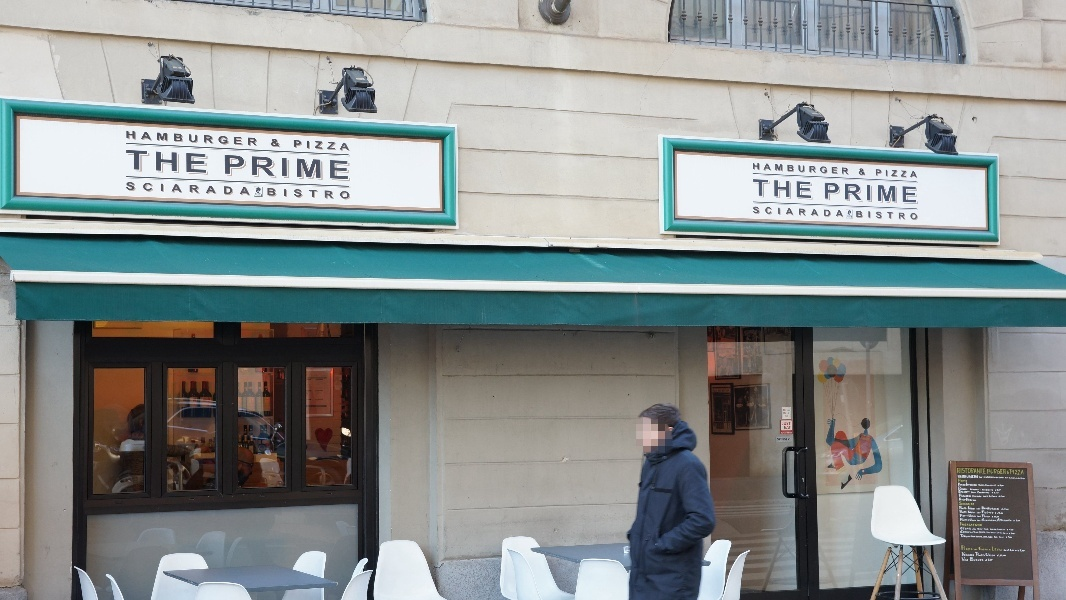text: (129, 149, 144, 175), (145, 149, 160, 175), (161, 149, 176, 175), (177, 149, 192, 175), (193, 149, 208, 175), (225, 155, 240, 181), (241, 155, 256, 181), (257, 155, 272, 181), (273, 155, 288, 181), (289, 155, 304, 181), (305, 155, 320, 181), (321, 155, 336, 181), (337, 155, 350, 181), (753, 179, 768, 200), (769, 179, 784, 200), (785, 179, 800, 200), (833, 183, 848, 204), (849, 183, 864, 204), (865, 183, 880, 204), (881, 183, 896, 204), (897, 183, 912, 204), (129, 130, 144, 147), (145, 130, 160, 147), (161, 130, 176, 147), (177, 130, 192, 147), (193, 130, 208, 147), (209, 130, 224, 147), (225, 130, 240, 147), (241, 130, 256, 147), (129, 181, 144, 197), (145, 181, 160, 197), (161, 181, 176, 197), (177, 181, 192, 197), (193, 181, 208, 197), (209, 181, 224, 197), (225, 181, 240, 197), (801, 179, 812, 200), (273, 187, 288, 200), (289, 187, 304, 200), (305, 187, 320, 200), (321, 187, 336, 200), (753, 163, 768, 176), (769, 163, 784, 176), (785, 163, 800, 176), (801, 163, 816, 176), (817, 163, 832, 176), (833, 163, 848, 176), (241, 181, 253, 197), (337, 187, 350, 200), (305, 140, 320, 151), (321, 140, 336, 151), (753, 207, 768, 218), (769, 207, 784, 218), (785, 207, 800, 218), (801, 207, 816, 218), (817, 207, 832, 218), (337, 140, 351, 151), (881, 169, 896, 179), (897, 169, 912, 179), (825, 183, 832, 204), (865, 211, 880, 220), (881, 211, 896, 220), (897, 211, 912, 220), (293, 140, 304, 151), (833, 207, 844, 218), (993, 468, 1007, 476), (961, 468, 976, 475), (1009, 469, 1024, 476), (961, 475, 976, 481), (977, 475, 992, 481), (993, 475, 1008, 481), (1009, 475, 1024, 481), (961, 505, 976, 511), (977, 505, 992, 511), (993, 505, 1008, 511), (961, 526, 976, 532), (977, 526, 992, 532), (993, 526, 1008, 532), (961, 545, 976, 551), (977, 552, 992, 558), (913, 183, 917, 204), (273, 138, 281, 148), (961, 497, 977, 502), (961, 483, 976, 488), (977, 483, 992, 488), (961, 510, 976, 515), (977, 510, 992, 515), (961, 514, 976, 519), (977, 514, 992, 519), (961, 522, 976, 527), (961, 530, 976, 535), (977, 530, 992, 535), (993, 530, 1008, 535), (961, 534, 976, 539), (977, 534, 992, 539), (993, 534, 1008, 539), (961, 552, 976, 557), (961, 557, 976, 562), (856, 211, 864, 220), (977, 468, 987, 475), (978, 547, 992, 552), (993, 546, 1004, 552), (267, 187, 272, 200), (913, 169, 919, 179), (993, 483, 1005, 488), (961, 490, 976, 494), (961, 494, 976, 498), (977, 494, 992, 498), (961, 518, 976, 522), (977, 518, 992, 522), (993, 518, 1008, 522), (1009, 549, 1024, 553), (961, 502, 975, 506), (993, 510, 1004, 515), (126, 149, 128, 175), (977, 490, 990, 494), (993, 494, 1006, 498), (1009, 518, 1022, 522), (257, 130, 260, 147), (859, 168, 864, 177), (913, 211, 918, 220), (997, 554, 1008, 558), (876, 169, 880, 179), (987, 468, 992, 476), (977, 557, 985, 562), (787, 432, 800, 435), (996, 489, 1008, 492), (1009, 526, 1015, 532), (961, 479, 968, 484), (993, 514, 1000, 519), (1009, 530, 1016, 535), (126, 130, 128, 147), (126, 181, 128, 197), (982, 489, 992, 492), (977, 522, 983, 527), (970, 557, 976, 562), (986, 558, 992, 563), (961, 487, 968, 491), (993, 491, 1000, 495), (785, 422, 791, 426), (785, 426, 791, 430), (970, 488, 976, 492), (785, 438, 792, 441), (957, 468, 960, 475), (270, 138, 272, 148), (977, 488, 982, 492), (1009, 534, 1013, 539), (778, 438, 784, 441), (993, 552, 996, 558), (1004, 549, 1008, 553), (849, 163, 850, 176), (958, 475, 960, 481), (958, 479, 960, 484), (958, 483, 960, 488), (865, 168, 866, 177), (781, 432, 784, 435), (958, 487, 960, 491), (958, 490, 960, 494), (785, 432, 787, 435), (1025, 475, 1026, 481), (959, 505, 960, 511), (1009, 505, 1010, 511), (974, 548, 976, 551), (1007, 470, 1008, 475), (1009, 470, 1010, 475), (959, 497, 960, 502), (993, 558, 994, 563), (783, 422, 784, 426), (959, 494, 960, 498), (959, 502, 960, 506), (1025, 549, 1026, 553), (993, 489, 994, 492), (977, 548, 978, 551)
